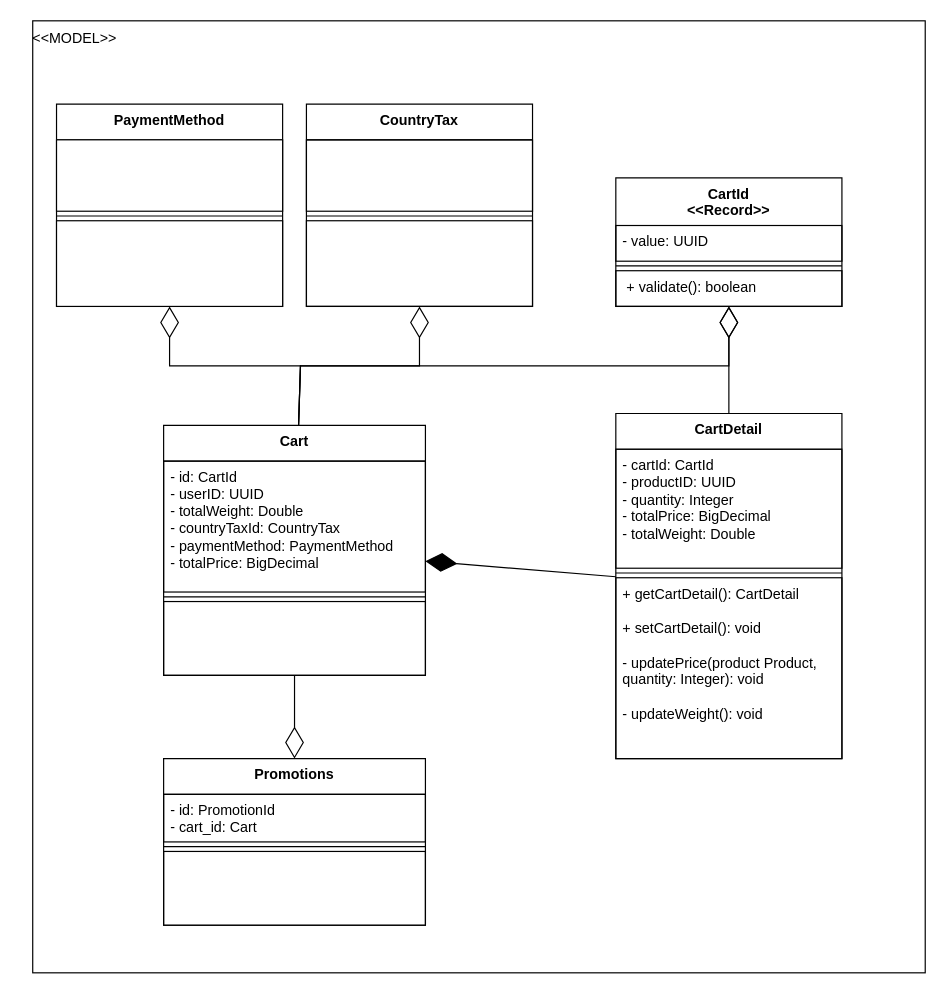
This 946x994 diagram has some shape labels left out. The box of each missing label's shape, as (x1, y1, x2, y2) in pixels:
+ getCountryTax(): CountryTax + setCountryTax(): void: (305, 220, 533, 306)
+ getPaymentMethod(): PaymentMethod + setPaymentMethod(): void: (55, 220, 283, 306)
+ getPromotion(): Promotion + setPromotion(): void: (162, 850, 425, 925)
- id: CountryTaxId - country: String - tax: Double: (305, 139, 533, 211)
- id: PaymentMethodId - paymentMethod : String - charge: Double: (55, 139, 283, 211)
build (id, userID, totalWeight, countryTaxId, paymentMethod, totalPrice): Cart: (162, 600, 425, 675)
